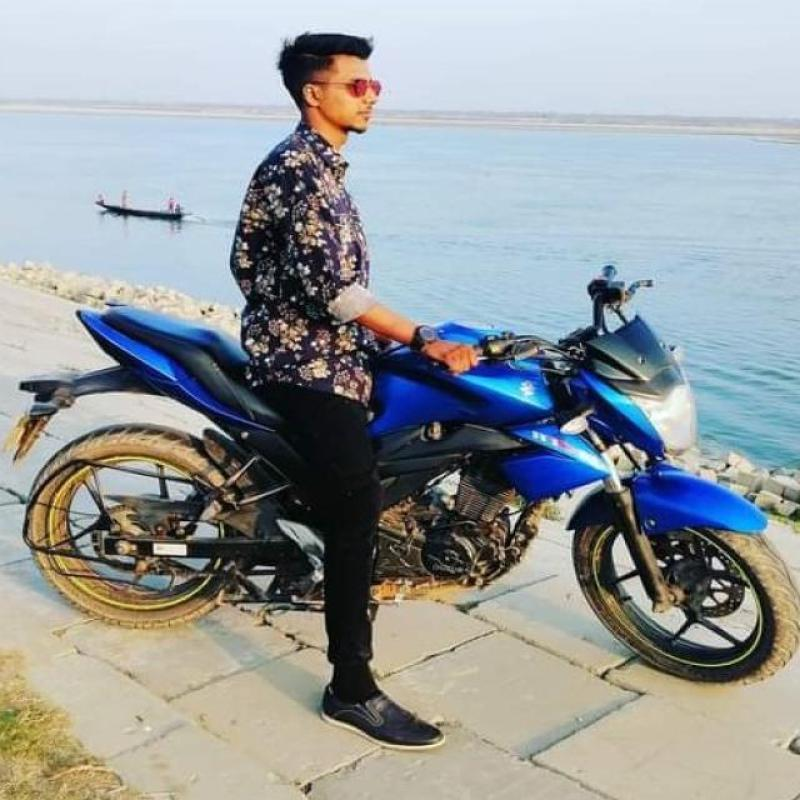nohelmet: (256, 24, 405, 144)
